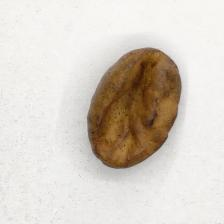NG: (105, 62, 160, 151)
